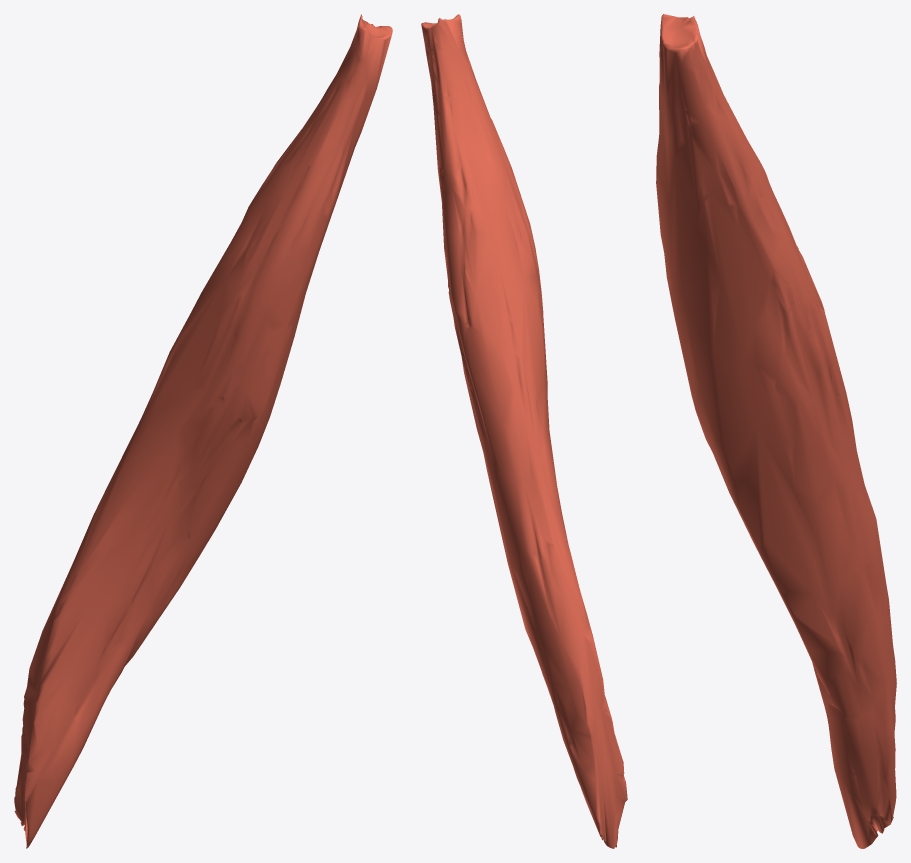
Rendered from coracobrachialis.glb.
The picture shows the model from 3 angles, left to right: view 1: azimuth 30°, elevation 25°; view 2: azimuth 150°, elevation 25°; view 3: azimuth 270°, elevation 25°; orthographic projection. The views are drawn at different scales.
Parts seen in each view (by area): view 1: Coracobrachialis muscle.r; view 2: Coracobrachialis muscle.r; view 3: Coracobrachialis muscle.r.
Part boxes in pixels (bbox=[...]): Coracobrachialis muscle.r: bbox=[14, 14, 392, 848]; Coracobrachialis muscle.r: bbox=[421, 14, 627, 848]; Coracobrachialis muscle.r: bbox=[656, 14, 896, 848].
Size of the model in its own units: 0.0608 by 0.1589 by 0.035.
